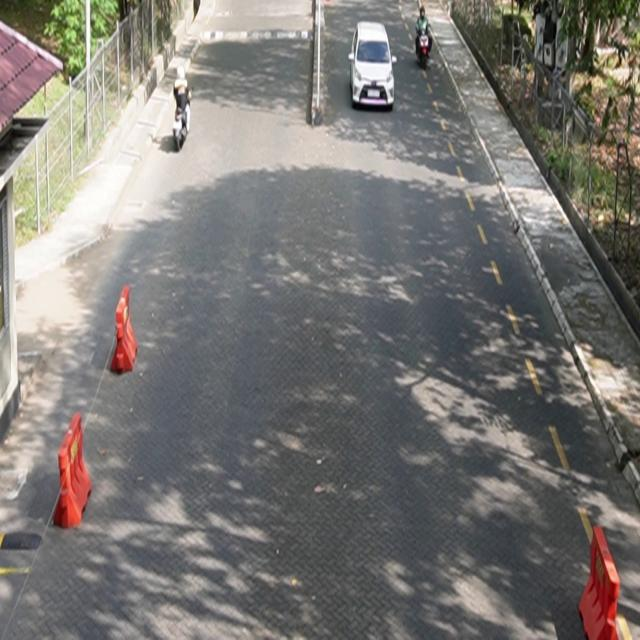car: (349, 21, 398, 111)
